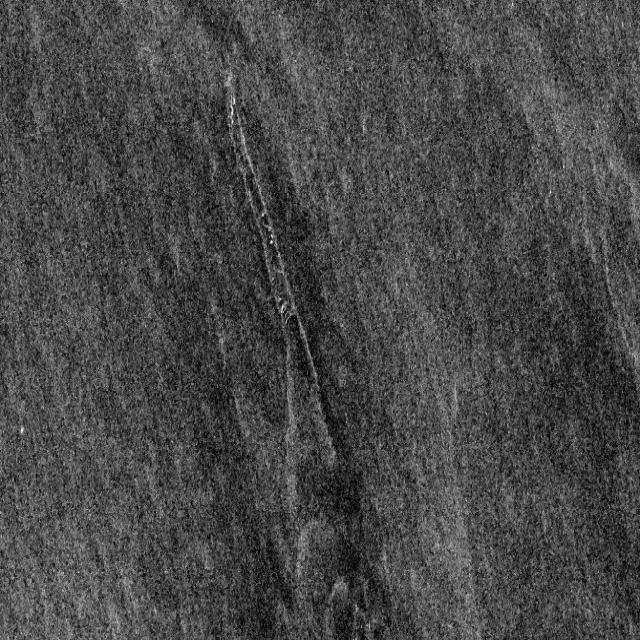look-alike: (201, 92, 333, 427), (288, 437, 387, 640)
